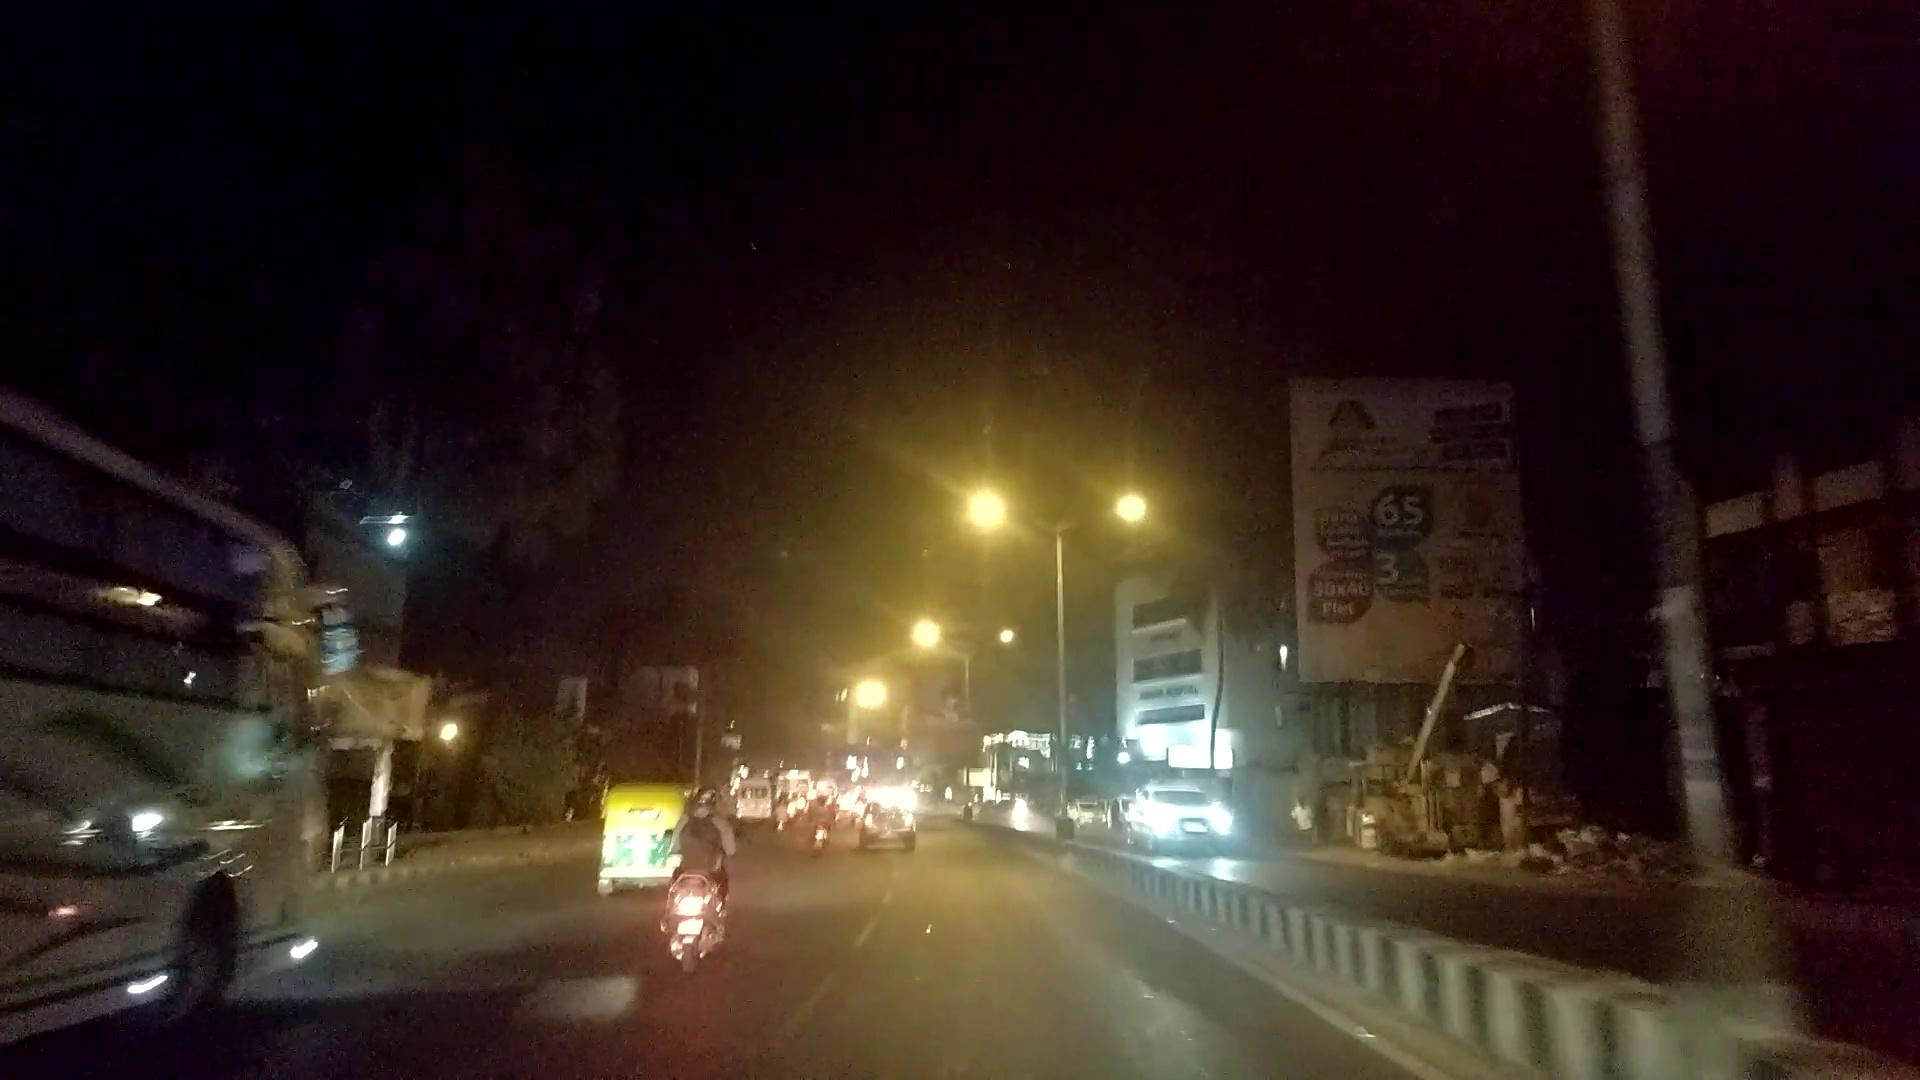off: (760, 252, 1342, 803)
